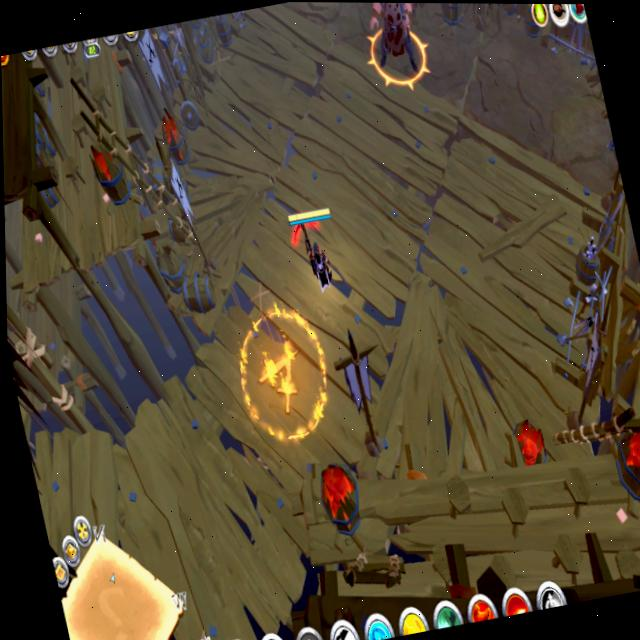ore: (353, 3, 447, 98)
red: (282, 201, 351, 297)
